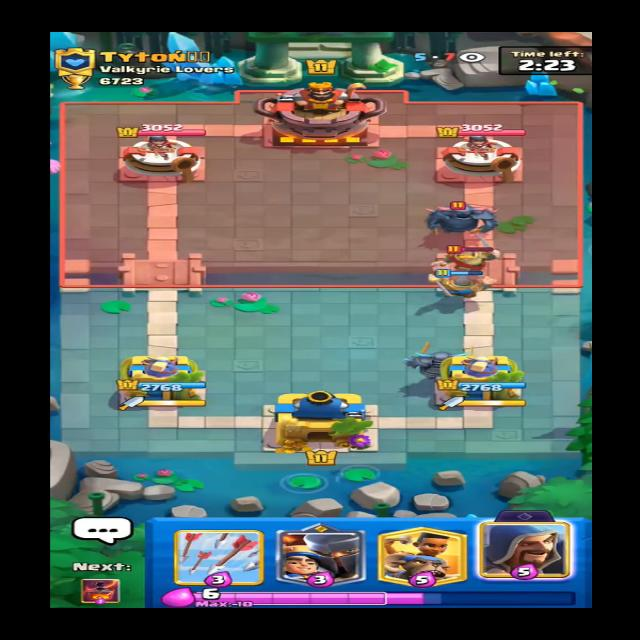Knight: (436, 244, 510, 280)
Pekka: (417, 198, 499, 238)
